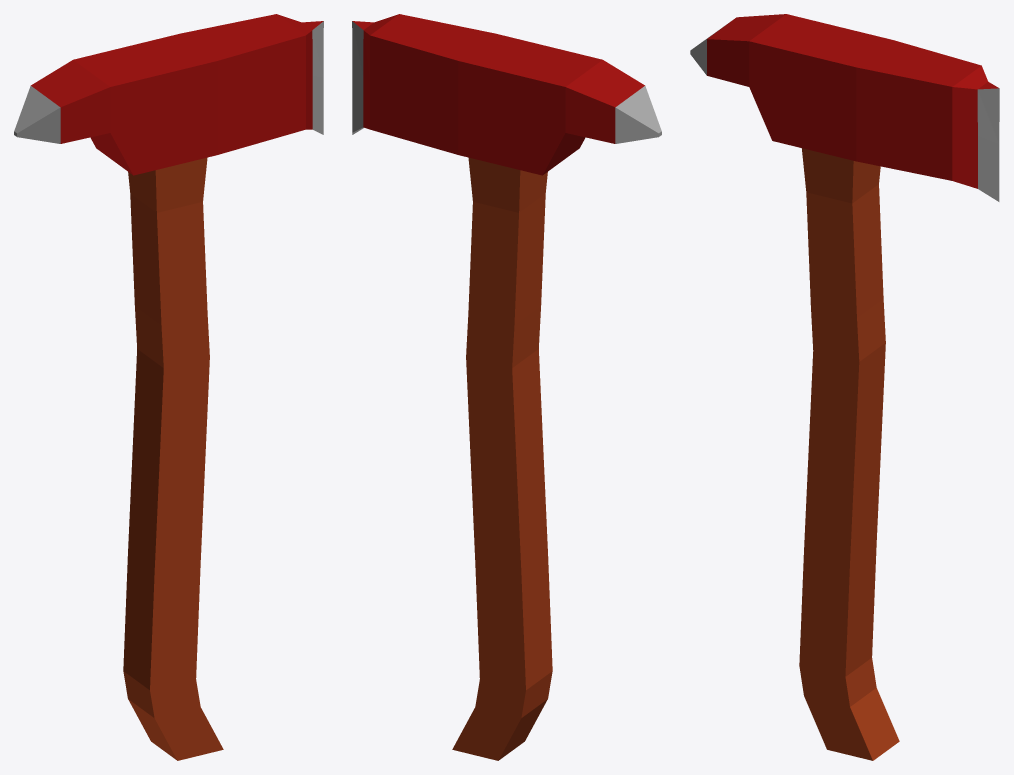
Rendered from FireAxe.obj.
The picture shows the model from 3 angles, left to right: view 1: azimuth 30°, elevation 25°; view 2: azimuth 150°, elevation 25°; view 3: azimuth 330°, elevation 25°; orthographic projection.
Visible parts, largest first — view 1: Cube; view 2: Cube; view 3: Cube.
Part boxes in pixels (bbox=[...]): Cube: bbox=[14, 14, 323, 760]; Cube: bbox=[352, 14, 661, 760]; Cube: bbox=[690, 14, 999, 760].
Bounding box in the file's own units: 13.36 × 28.8 × 2.8.
